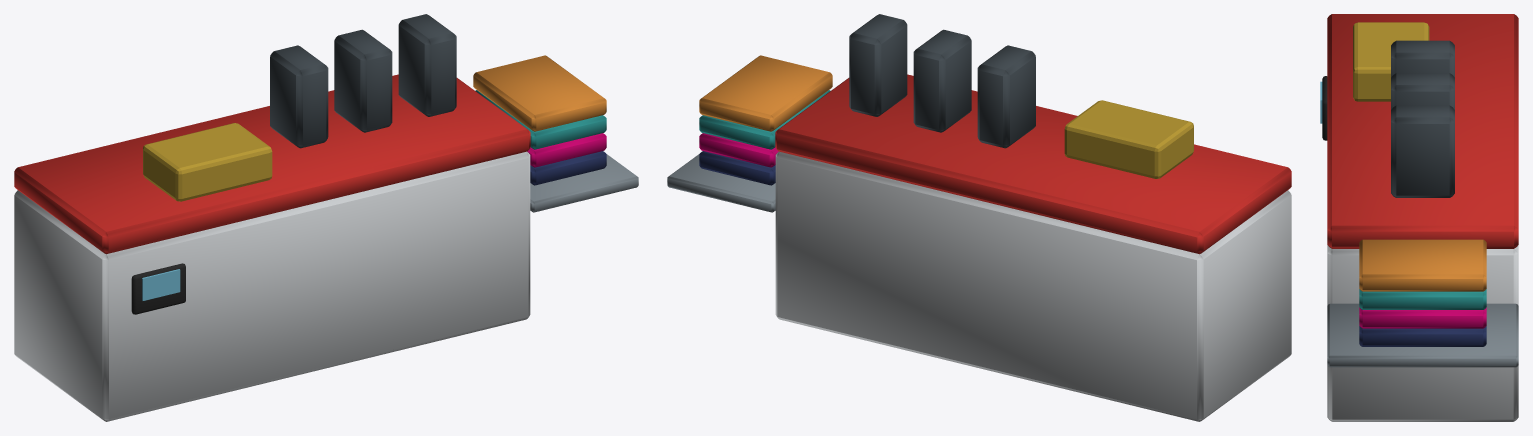
File: m_binder.glb
The picture shows the model from 3 angles, left to right: view 1: azimuth 30°, elevation 25°; view 2: azimuth 150°, elevation 25°; view 3: azimuth 270°, elevation 25°; orthographic projection. The views are drawn at different scales.
Parts seen in each view (by area): view 1: m_binder; view 2: m_binder; view 3: m_binder.
Part boxes in pixels (x1,y1,x2,y2): m_binder: (14, 14, 638, 421); m_binder: (667, 14, 1291, 421); m_binder: (1320, 14, 1518, 421).
Size of the model in its own units: 1 by 0.49 by 0.311.
